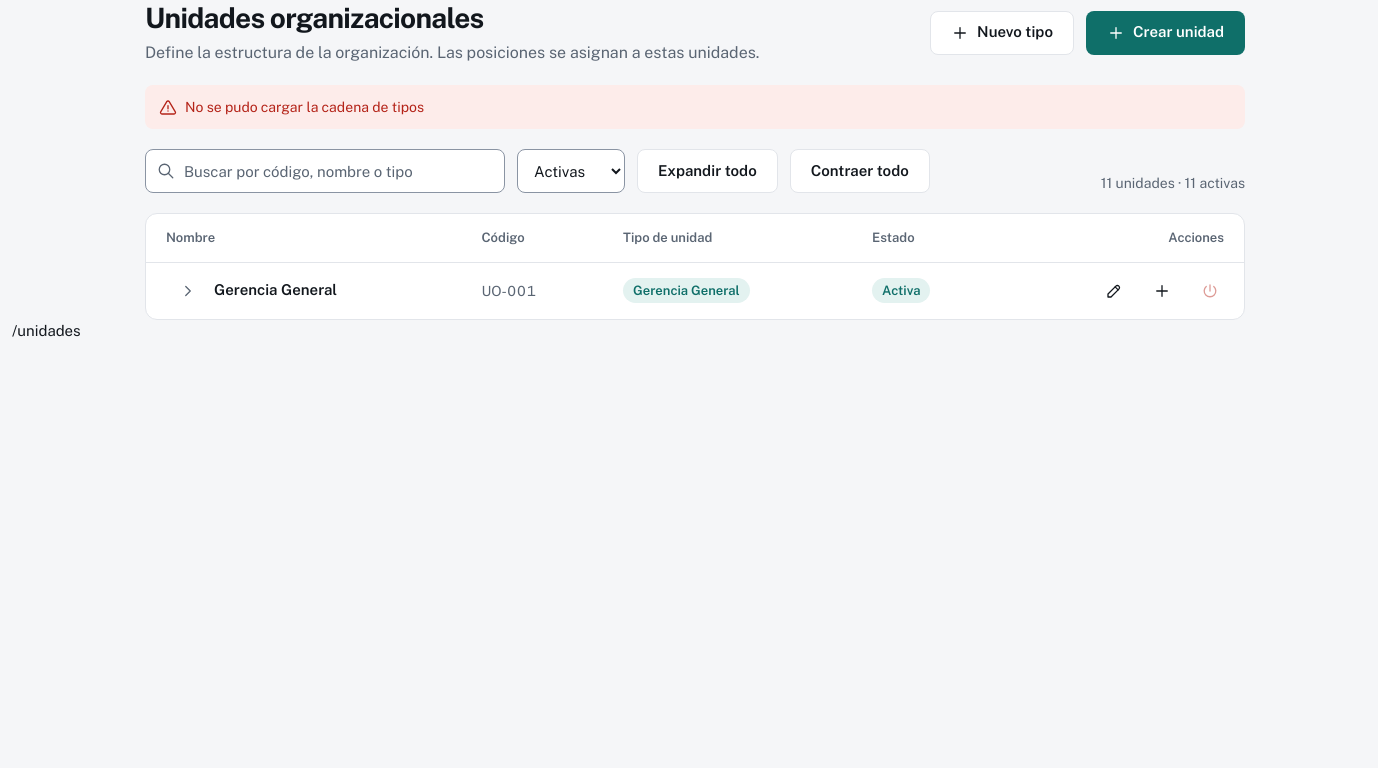
Test: UnidadesPage › guarda búsqueda y estado en la URL y no escribe Activa
Check: the table named "Unidades organizacionales" is shown, box [146, 214, 1244, 318]
Select "Todas" in the dropdown named "Filtrar por estado" at (571, 171), box [517, 149, 625, 193]
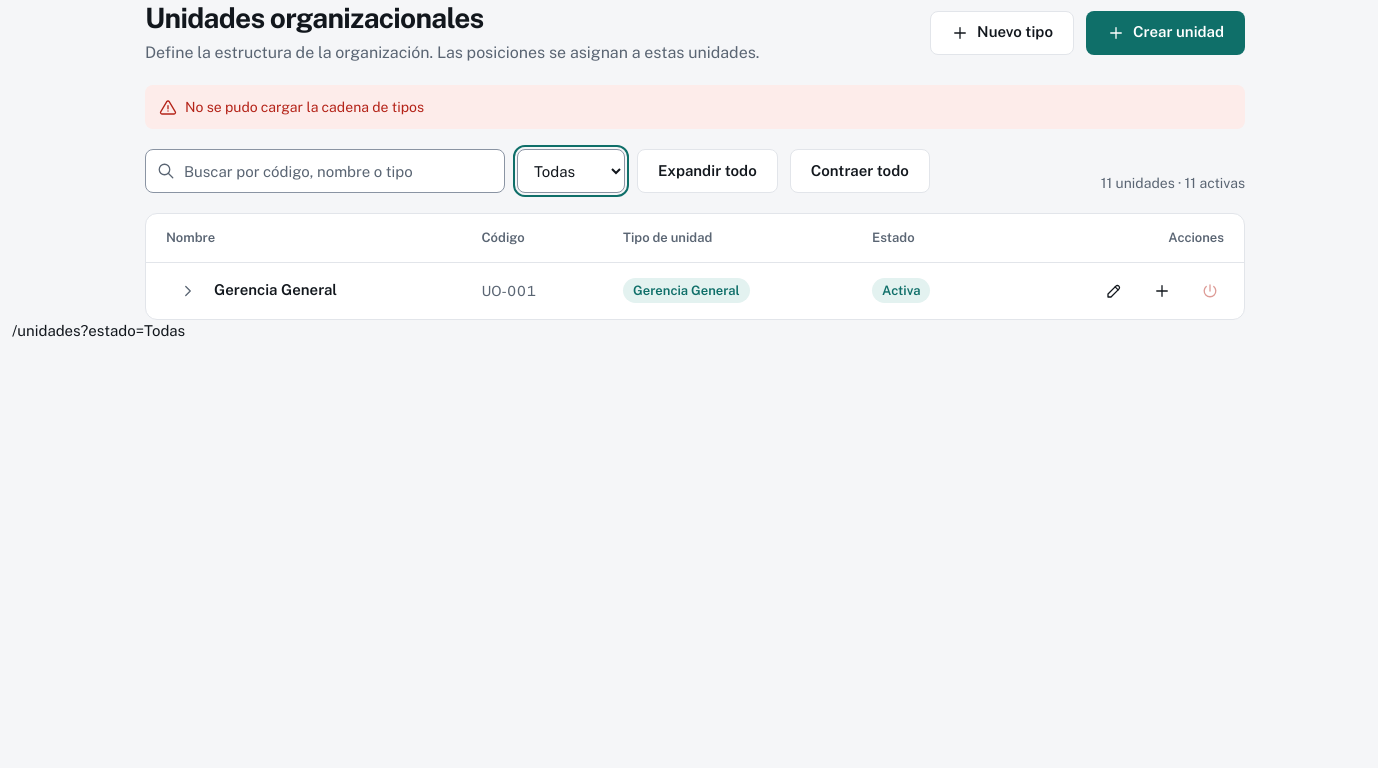
Check: the text with test id "ubicacion" reads "/unidades?estado=Todas", box [12, 322, 185, 338]
Select "Activas" in the dropdown named "Filtrar por estado" at (571, 171), box [517, 149, 625, 193]
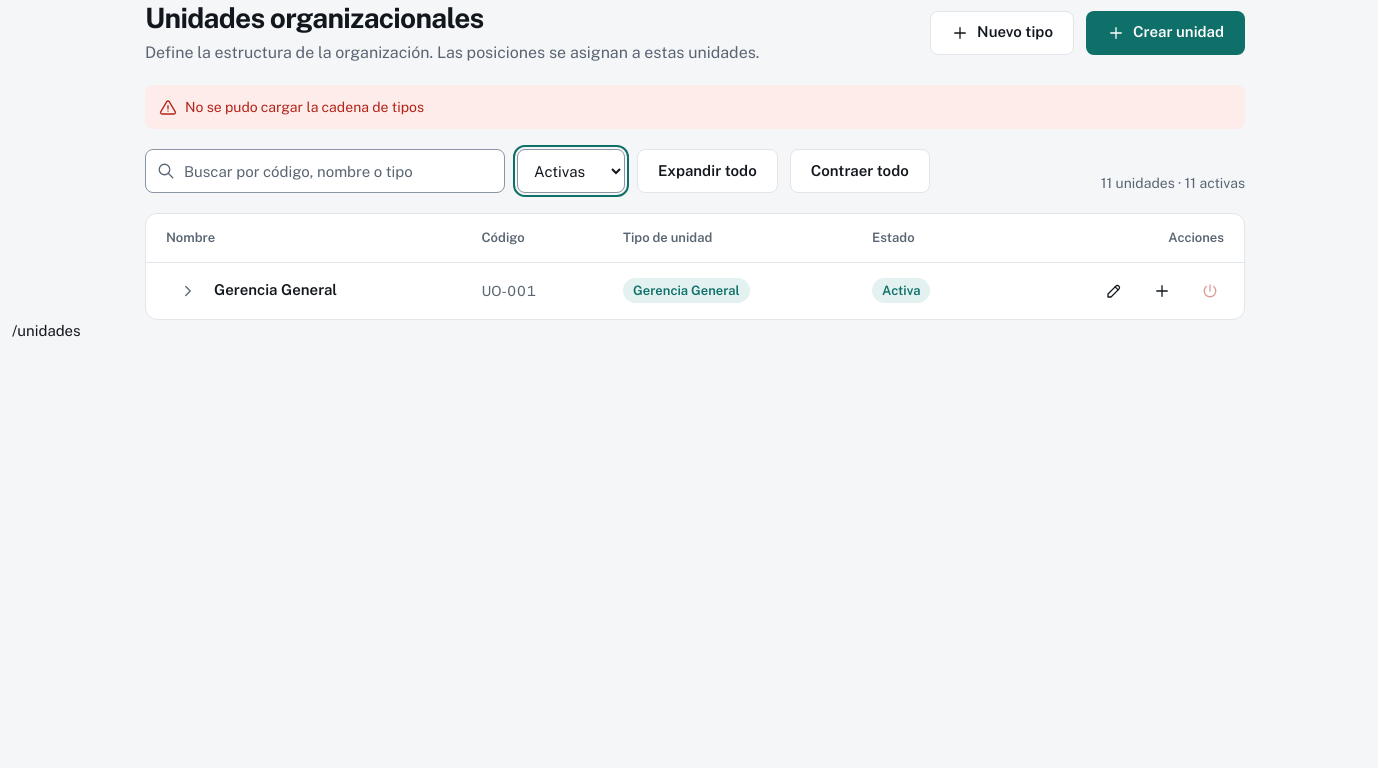
Check: the text with test id "ubicacion" reads "/unidades", box [12, 322, 81, 338]
Type "area" into the search field named "Buscar unidad".
click(325, 171); type("area")  # box [145, 149, 505, 193]
(page scrolled)
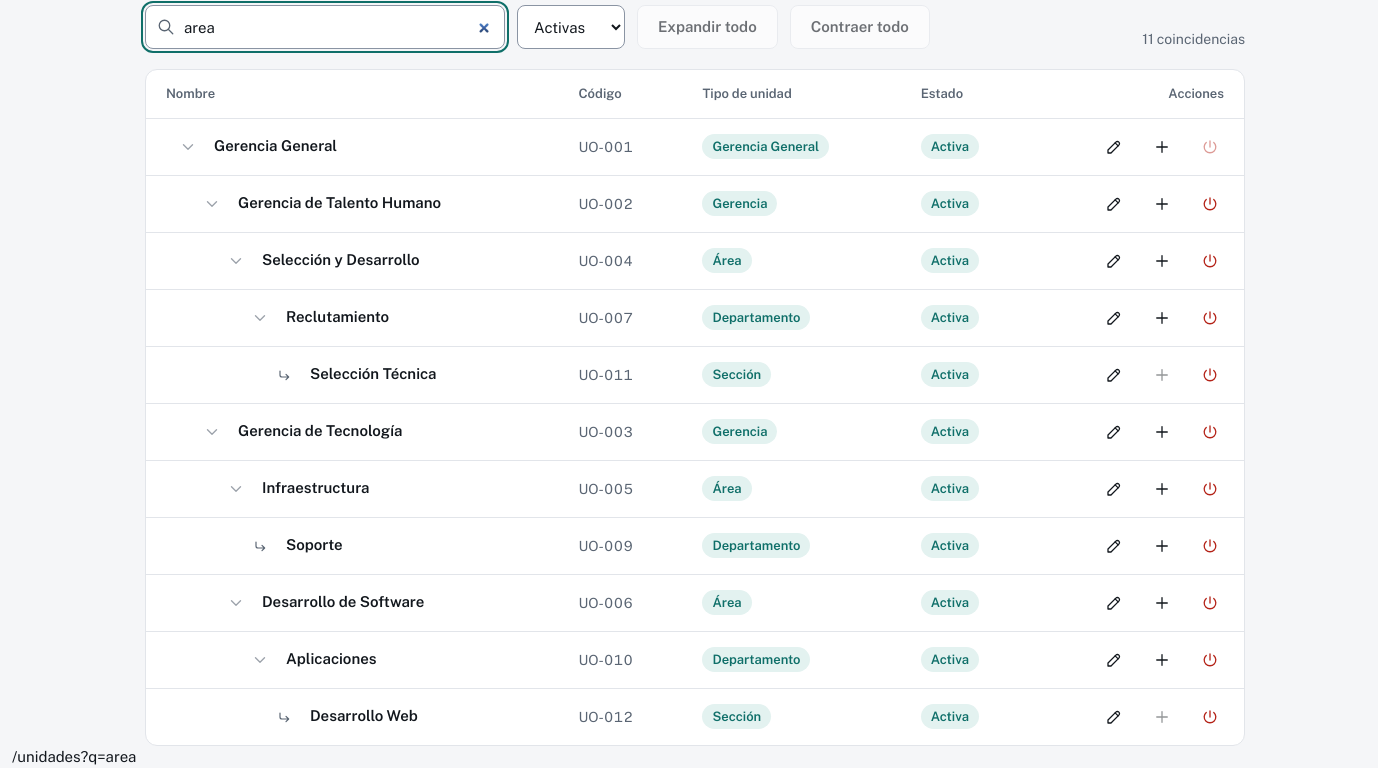
Check: the text with test id "ubicacion" shows "q=area", box [12, 748, 136, 764]
